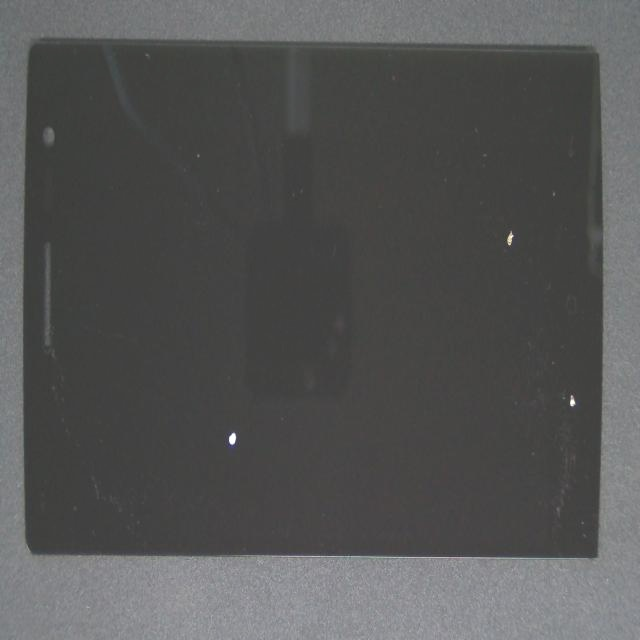stain: (297, 167, 640, 576), (248, 63, 640, 336), (117, 177, 337, 640)
